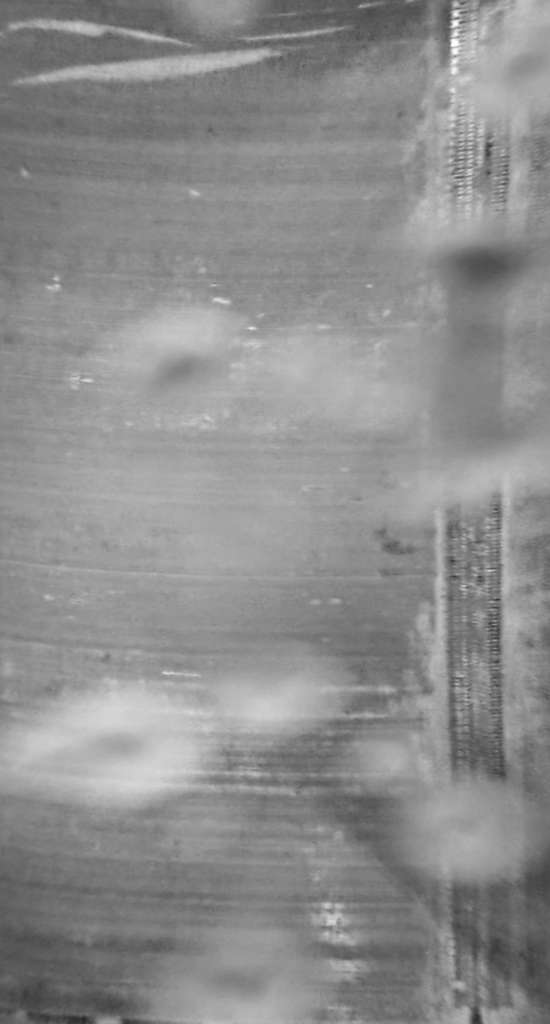splice: (443, 1, 524, 1024)
